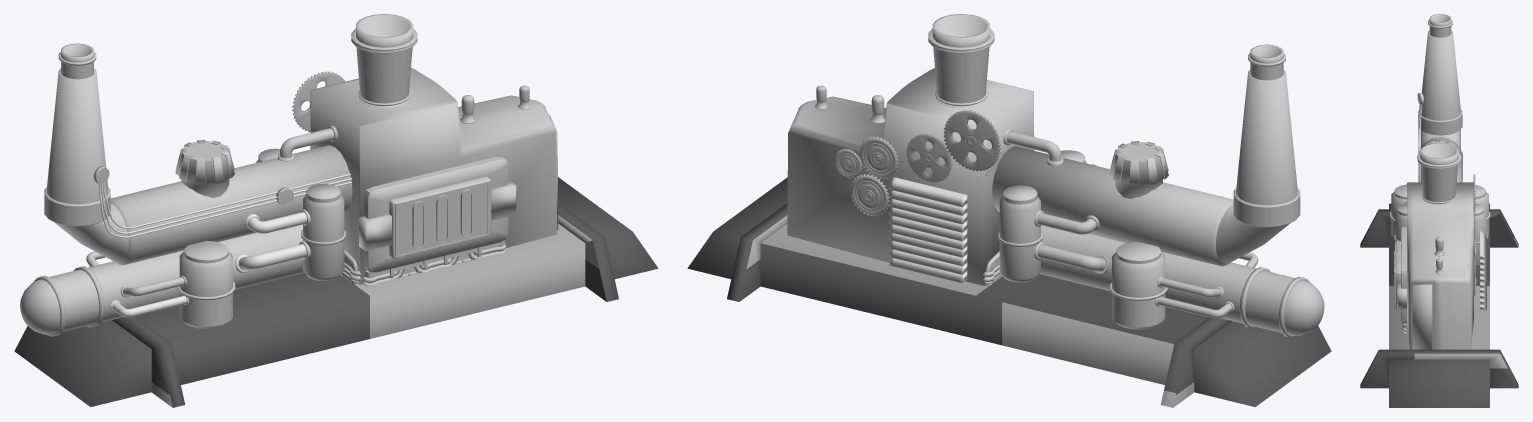
File: Generator02.fbx
3 renders of one model, left to right at view 1: azimuth 30°, elevation 25°; view 2: azimuth 150°, elevation 25°; view 3: azimuth 270°, elevation 25°, orthographic. The views are drawn at different scales.
Visible parts, largest first — view 1: Base001, Generator, Box001, HeaterDoor001, MainFuel, Exhaust002, FuelContainer005, FuelContainer002, Exhaust001, Pipe002, Gear001, Grill002 (+8 smaller); view 2: Base001, Generator, Box001, MainFuel, VENT003, Exhaust002, FuelContainer004, FuelContainer003, Exhaust001, Gear001, Gear003, Gear002 (+7 smaller); view 3: Base001, Box001, Generator, Exhaust002, HeaterDoor001, VENT003, FuelContainer003, FuelContainer005, FuelContainer002, FuelContainer004.
Part boxes in pixels (bbox=[...]): Base001: bbox=[14, 177, 658, 407]; Generator: bbox=[44, 43, 352, 265]; Box001: bbox=[310, 67, 558, 284]; HeaterDoor001: bbox=[359, 157, 516, 272]; MainFuel: bbox=[20, 224, 304, 336]; Exhaust002: bbox=[351, 14, 417, 107]; FuelContainer005: bbox=[177, 240, 235, 328]; FuelContainer002: bbox=[301, 184, 345, 280]; Exhaust001: bbox=[175, 140, 234, 197]; Pipe002: bbox=[235, 241, 310, 272]; Gear001: bbox=[292, 71, 344, 132]; Grill002: bbox=[362, 254, 452, 285]; Base001: bbox=[687, 177, 1331, 407]; Generator: bbox=[992, 44, 1300, 266]; Box001: bbox=[787, 68, 1034, 285]; MainFuel: bbox=[1039, 225, 1324, 337]; VENT003: bbox=[889, 177, 967, 283]; Exhaust002: bbox=[928, 14, 994, 107]; FuelContainer004: bbox=[1109, 241, 1167, 329]; FuelContainer003: bbox=[998, 185, 1042, 282]; Exhaust001: bbox=[1109, 141, 1168, 198]; Gear001: bbox=[943, 110, 1000, 171]; Gear003: bbox=[906, 133, 952, 182]; Gear002: bbox=[859, 136, 898, 178]; Base001: bbox=[1360, 203, 1518, 407]; Box001: bbox=[1407, 182, 1473, 349]; Generator: bbox=[1418, 14, 1462, 182]; Exhaust002: bbox=[1417, 143, 1461, 205]; HeaterDoor001: bbox=[1394, 227, 1406, 323]; VENT003: bbox=[1480, 230, 1486, 310]; FuelContainer003: bbox=[1473, 204, 1487, 267]; FuelContainer005: bbox=[1390, 184, 1407, 237]; FuelContainer002: bbox=[1394, 203, 1407, 242]; FuelContainer004: bbox=[1475, 185, 1490, 236].
Bounding box in the file's own units: 519 × 268 × 180.
